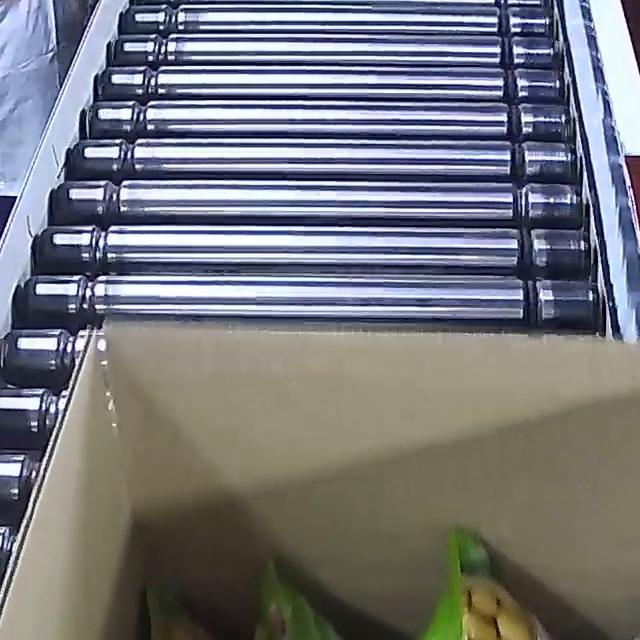yogurt: (135, 532, 640, 640)
